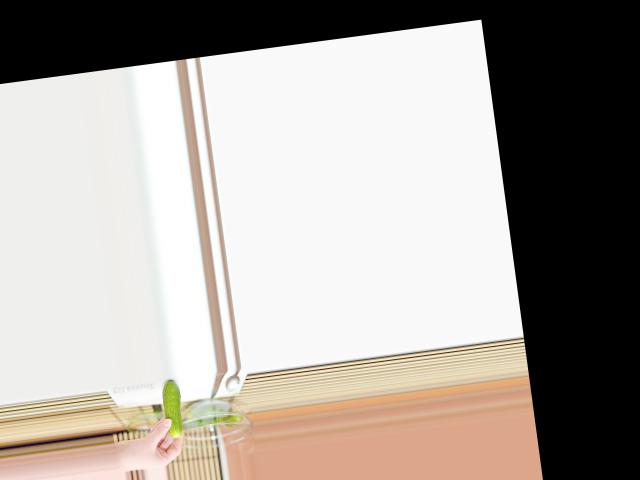cucumber: (160, 378, 185, 438)
